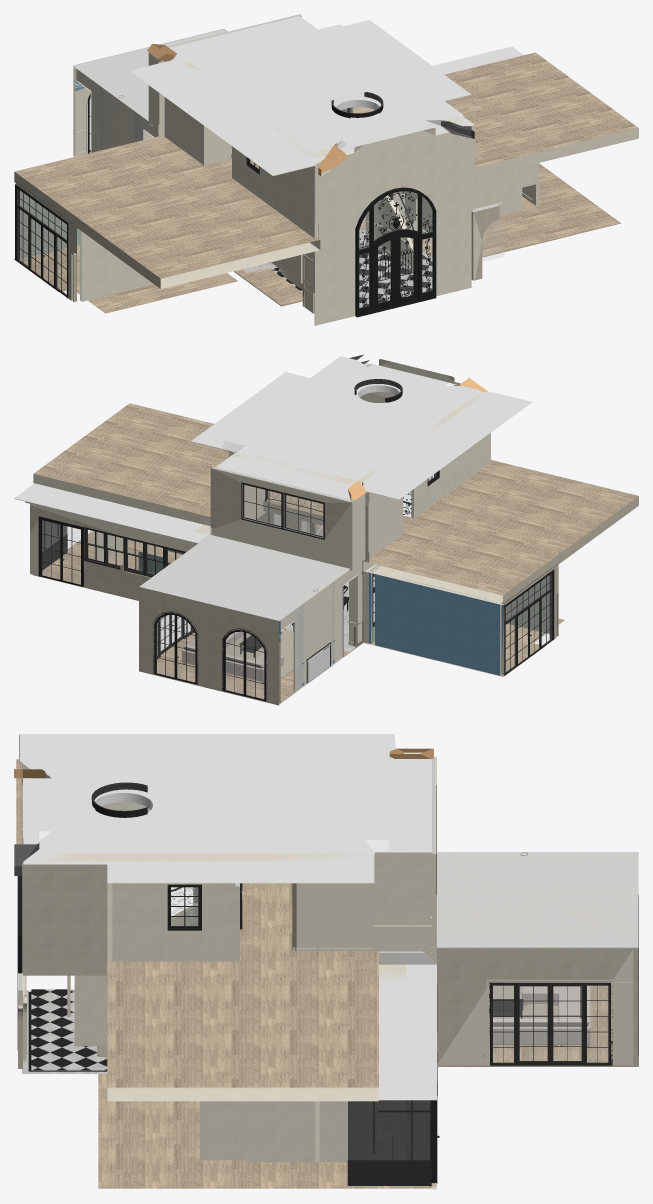
Rendered from family-room-ab09dc41c51f.glb.
3 views of the same model, one above another, from view 1: azimuth 30°, elevation 25°; view 2: azimuth 150°, elevation 25°; view 3: azimuth 270°, elevation 25° (orthographic). The views are drawn at different scales.
Parts seen in each view (by area): view 1: family-room-look-2575515a05775d9e, family-room-look-e8793759323e04f0, family-room-look-9d91b47435c6fb33, family-room-look-34525a54e63b733b, family-room-look-3b0077416469e01b, family-room-look-d5a4a1b5d3594c04, family-room-look-08d72923bcfd3529, family-room-look-5f56640b372ec5ce, family-room-look-746250f96522f643, family-room-look-d940cbb696ed07bc, family-room-4a969f5cc1ae3dfe, family-room-look-74640f87451038c4 (+25 smaller); view 2: family-room-look-2575515a05775d9e, family-room-look-e8793759323e04f0, family-room-look-9d91b47435c6fb33, family-room-4a969f5cc1ae3dfe, family-room-look-b19b106fc304963c, family-room-look-245f595ae2832e16, family-room-969b861f9850351e, family-room-look-bfb9fa537cd11d1d, family-room-look-9a0e9ee9b2a451d7, family-room-9d80b152e3f2ea10, family-room-look-08d72923bcfd3529, family-room-look-5f56640b372ec5ce (+22 smaller); view 3: family-room-look-2575515a05775d9e, family-room-look-e8793759323e04f0, family-room-look-9d91b47435c6fb33, family-room-4a969f5cc1ae3dfe, family-room-look-3b0077416469e01b, family-room-e706aa16b4547c37, family-room-3d5fbc3a2a5f9c05, family-room-look-62353aa10fc57f23, family-room-50d54560d247b537, family-room-look-c51ecd664a3b22a3, family-room-look-9a0e9ee9b2a451d7, family-room-look-5f56640b372ec5ce (+25 smaller).
Boxes of the visible parts, x1,y1,x2,y2 form: family-room-look-2575515a05775d9e: [14, 52, 638, 288]; family-room-look-e8793759323e04f0: [180, 23, 463, 158]; family-room-look-9d91b47435c6fb33: [130, 16, 474, 175]; family-room-look-34525a54e63b733b: [314, 126, 471, 244]; family-room-look-3b0077416469e01b: [14, 163, 620, 306]; family-room-look-d5a4a1b5d3594c04: [314, 208, 471, 325]; family-room-look-08d72923bcfd3529: [15, 184, 68, 298]; family-room-look-5f56640b372ec5ce: [254, 81, 404, 139]; family-room-look-746250f96522f643: [232, 146, 317, 238]; family-room-look-d940cbb696ed07bc: [355, 187, 436, 317]; family-room-4a969f5cc1ae3dfe: [73, 29, 226, 120]; family-room-look-74640f87451038c4: [359, 191, 432, 307]; family-room-look-2575515a05775d9e: [33, 403, 638, 604]; family-room-look-e8793759323e04f0: [222, 356, 481, 485]; family-room-look-9d91b47435c6fb33: [191, 362, 532, 500]; family-room-4a969f5cc1ae3dfe: [139, 534, 349, 621]; family-room-look-b19b106fc304963c: [375, 573, 501, 675]; family-room-look-245f595ae2832e16: [210, 467, 352, 568]; family-room-969b861f9850351e: [139, 587, 280, 704]; family-room-look-bfb9fa537cd11d1d: [30, 502, 197, 600]; family-room-look-9a0e9ee9b2a451d7: [14, 483, 208, 543]; family-room-9d80b152e3f2ea10: [280, 562, 362, 690]; family-room-look-08d72923bcfd3529: [504, 569, 554, 675]; family-room-look-5f56640b372ec5ce: [324, 377, 464, 430]; family-room-look-2575515a05775d9e: [16, 759, 378, 1101]; family-room-look-e8793759323e04f0: [39, 756, 388, 861]; family-room-look-9d91b47435c6fb33: [19, 734, 431, 883]; family-room-4a969f5cc1ae3dfe: [436, 852, 638, 948]; family-room-look-3b0077416469e01b: [98, 920, 436, 1188]; family-room-e706aa16b4547c37: [437, 948, 633, 1065]; family-room-3d5fbc3a2a5f9c05: [489, 981, 612, 1065]; family-room-look-62353aa10fc57f23: [23, 865, 112, 975]; family-room-50d54560d247b537: [436, 852, 638, 948]; family-room-look-c51ecd664a3b22a3: [112, 883, 239, 961]; family-room-look-9a0e9ee9b2a451d7: [379, 964, 436, 1100]; family-room-look-5f56640b372ec5ce: [83, 756, 196, 825].
Size of the model in its own units: 21.07 by 7.01 by 16.88.
62 materials, 12 textured.
